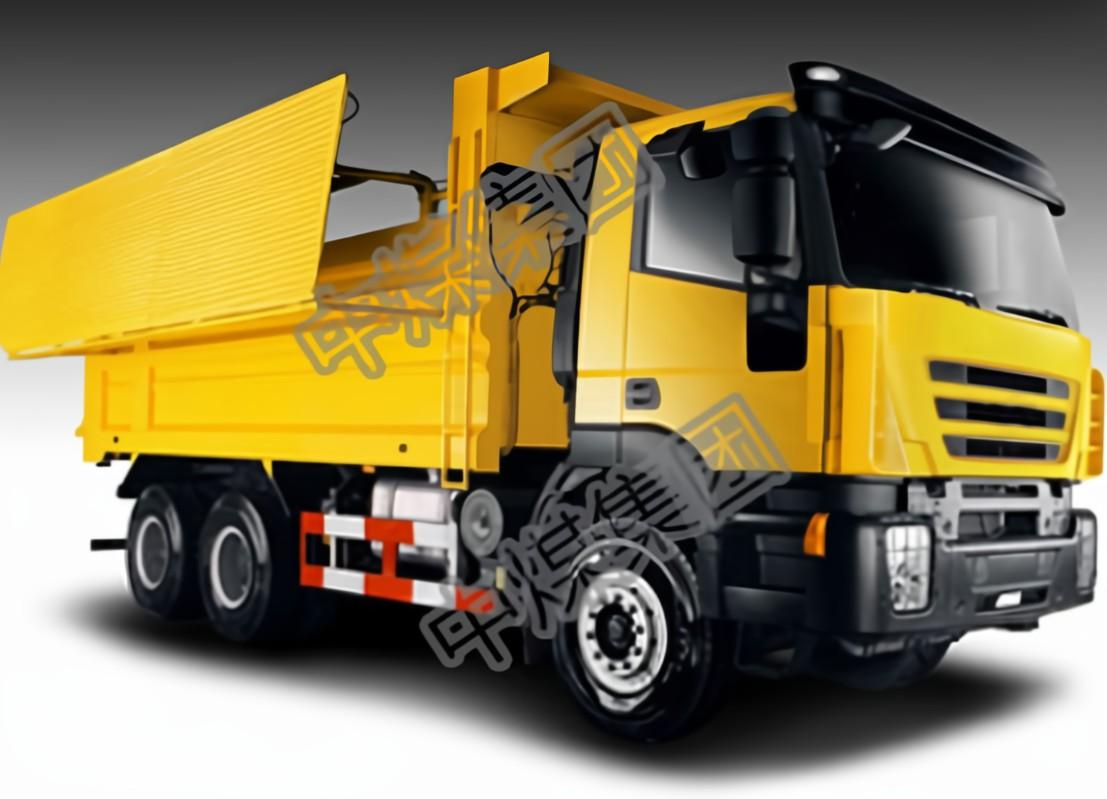truck: (12, 35, 1107, 757)
